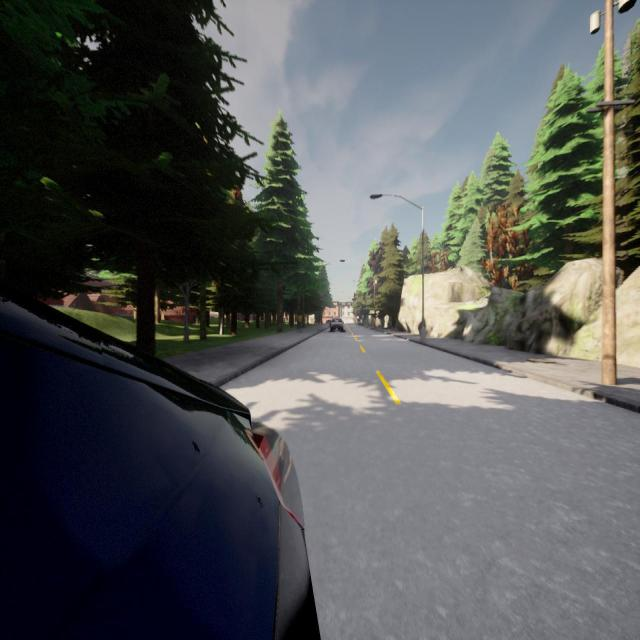Pedestrian: (296, 312, 302, 332)
Vehicle: (0, 288, 318, 640), (330, 318, 344, 332)
